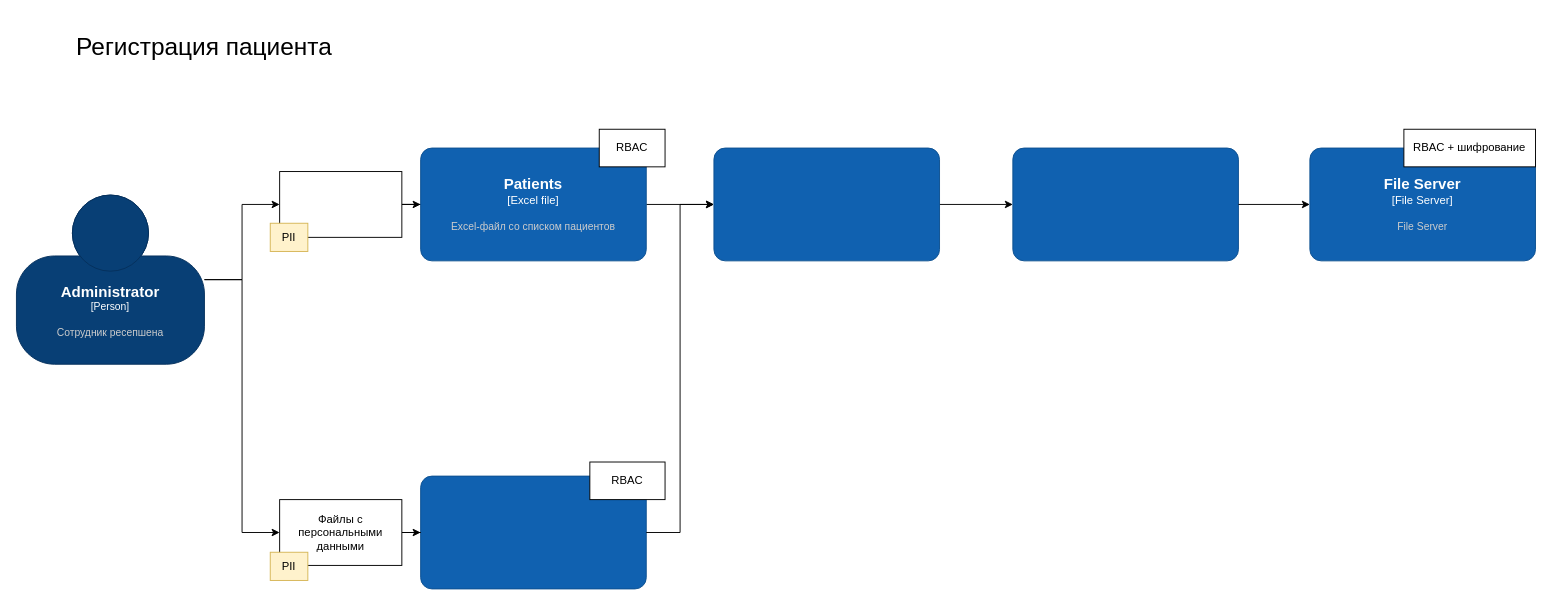
Some shapes in this 1552 by 605 pixel diagram are drawn without their labels. Each missing label, with the box of its shape:
File System [File System] File System: (1012, 147, 1238, 261)
Pacient1-FIO-BD [Folder] Файлы пациента в разных форматах: (420, 475, 646, 589)
Pacients [Folder] Файлы пациентов в разных форматах: (713, 147, 940, 261)
Учётные данные пациента: (279, 171, 402, 237)
